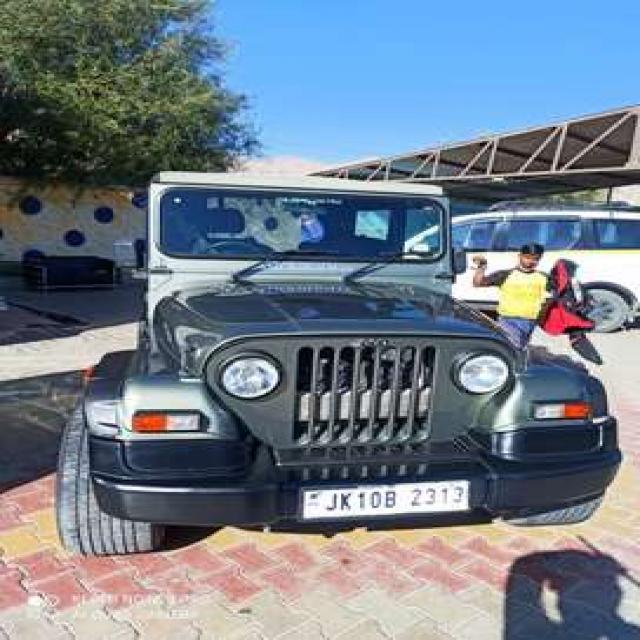Plate: (300, 475, 467, 518)
